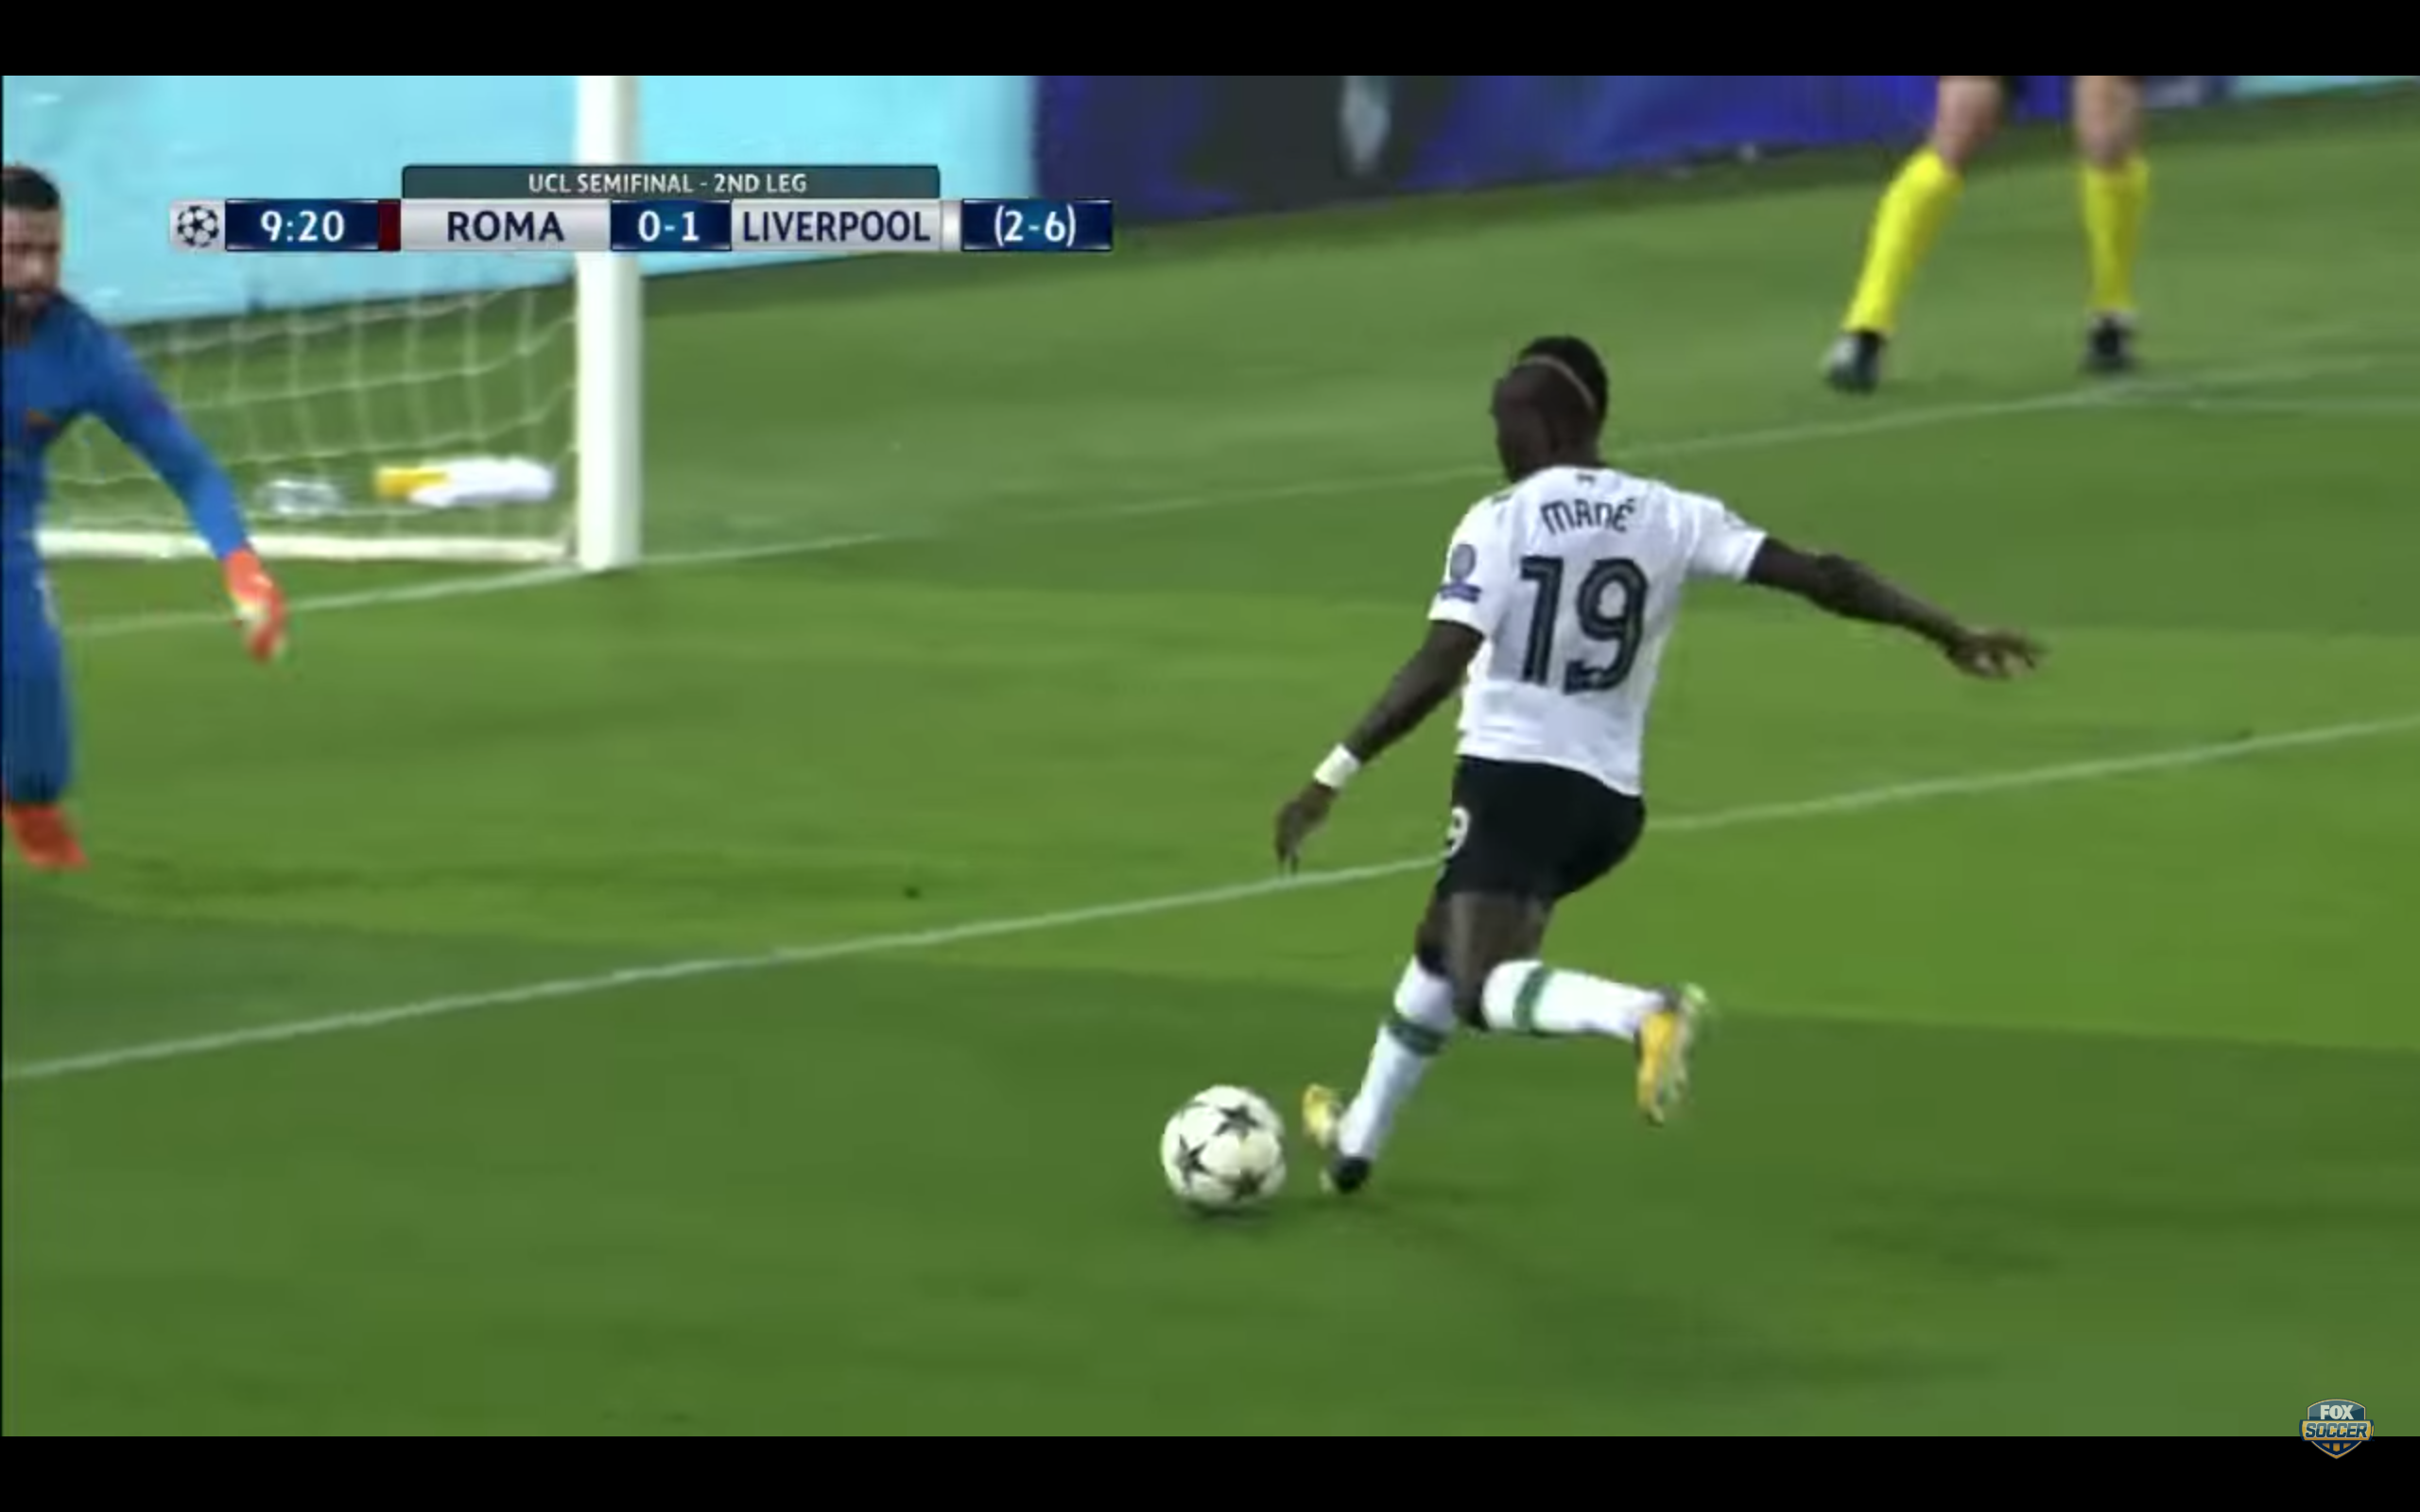soccer player: (1267, 326, 2062, 1205), (1, 132, 296, 893)
soccerball: (1152, 1077, 1303, 1233)
